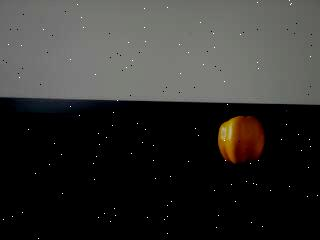Capsicum: (217, 113, 267, 167)
